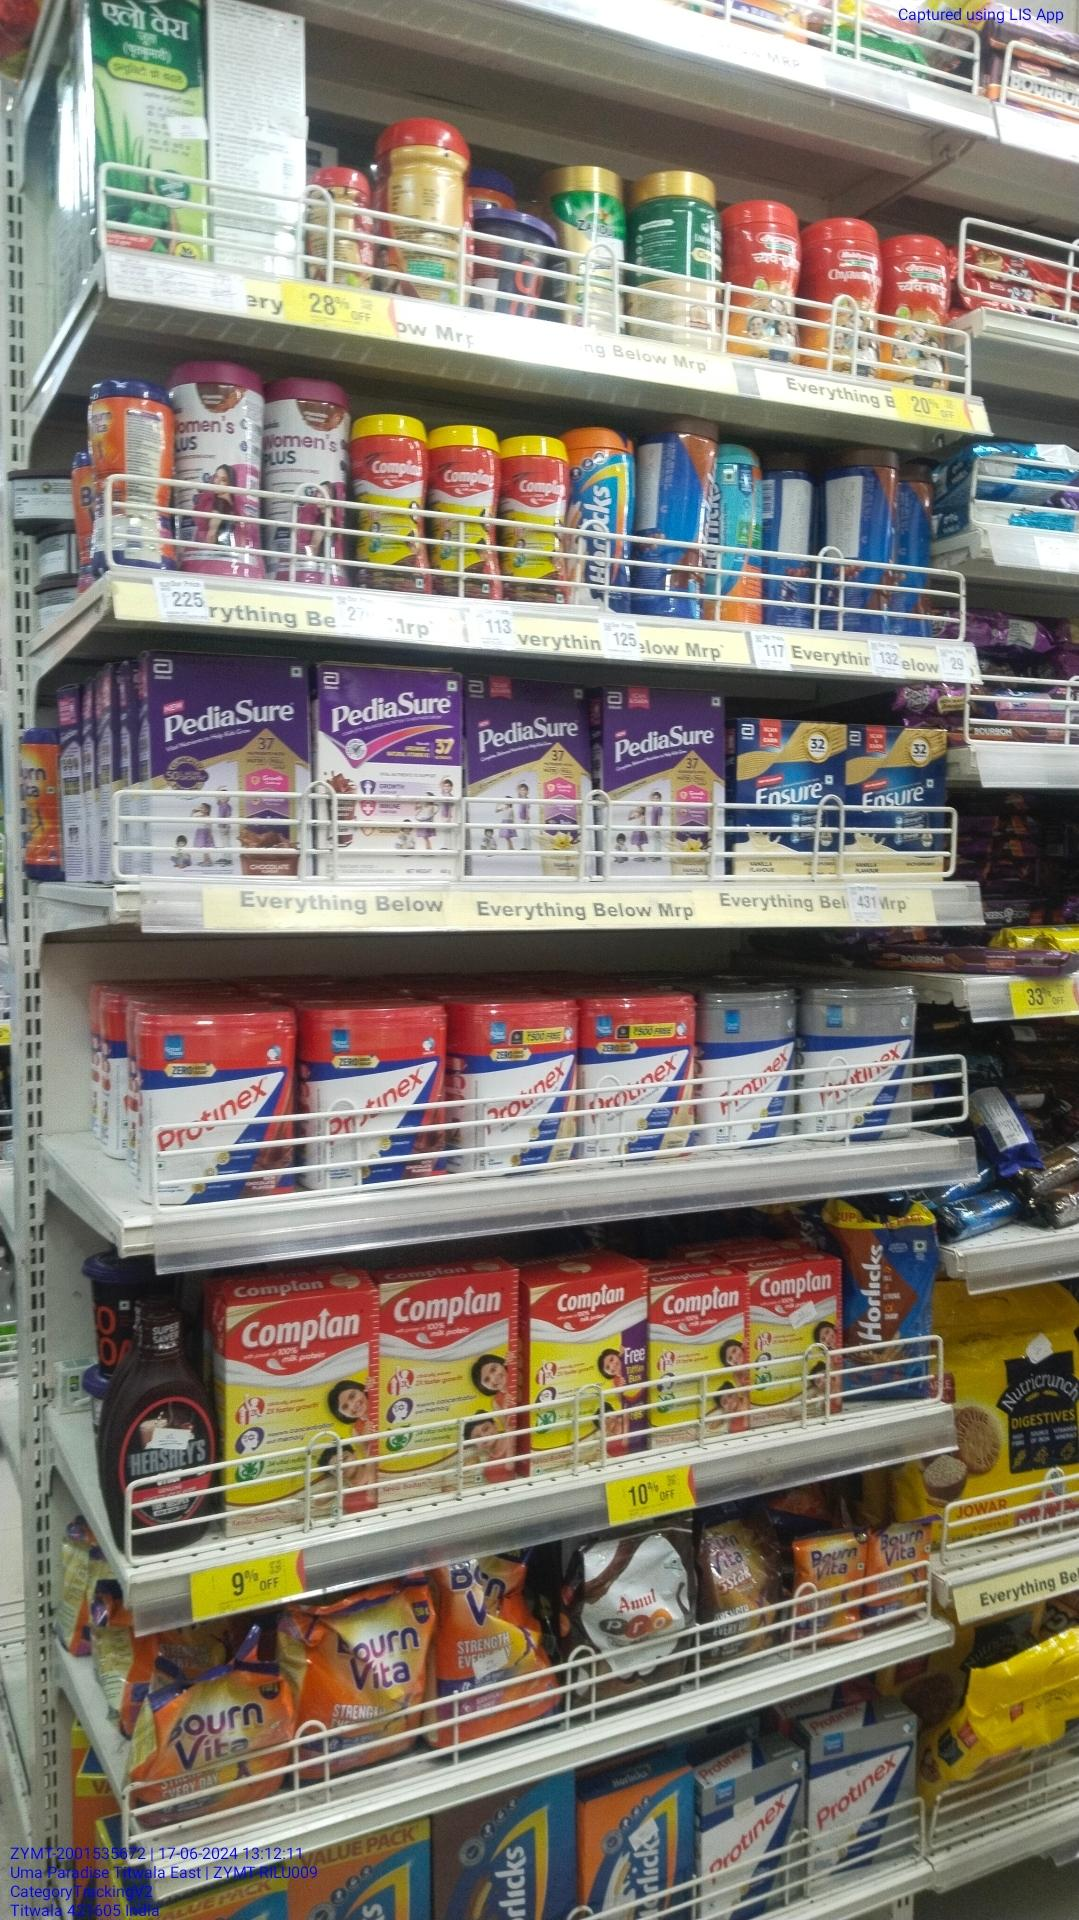BOURN_VITA_75_G_POUCH: (793, 1530, 865, 1647), (867, 1518, 934, 1629)
COMPLAN_CHOCOLATE_500_GMS_JAR: (356, 415, 429, 592), (433, 426, 503, 595), (505, 434, 566, 603)
COMPLAN_KESAR_BADAM_200_GMS_PACK: (650, 1282, 751, 1441)
ENSURE_VANILLA_400_G_PACK: (739, 716, 846, 878), (848, 725, 950, 880)
PEDIASURE_CHOCOLATE_500_G_PACK: (149, 654, 310, 878)
PEDIASURE_VANILLA_500_G_PACK: (463, 678, 592, 878), (601, 680, 728, 877)
PROTINEX_CHOCOLATE_400_G_JAR: (141, 1004, 297, 1201), (301, 1000, 447, 1185)
PROTINEX_ORIGINAL_400_G_JAR: (801, 989, 921, 1135), (698, 986, 795, 1146)
PROTINEX_VANILLA_400_G_JAR: (459, 1000, 572, 1167), (578, 996, 694, 1151)
